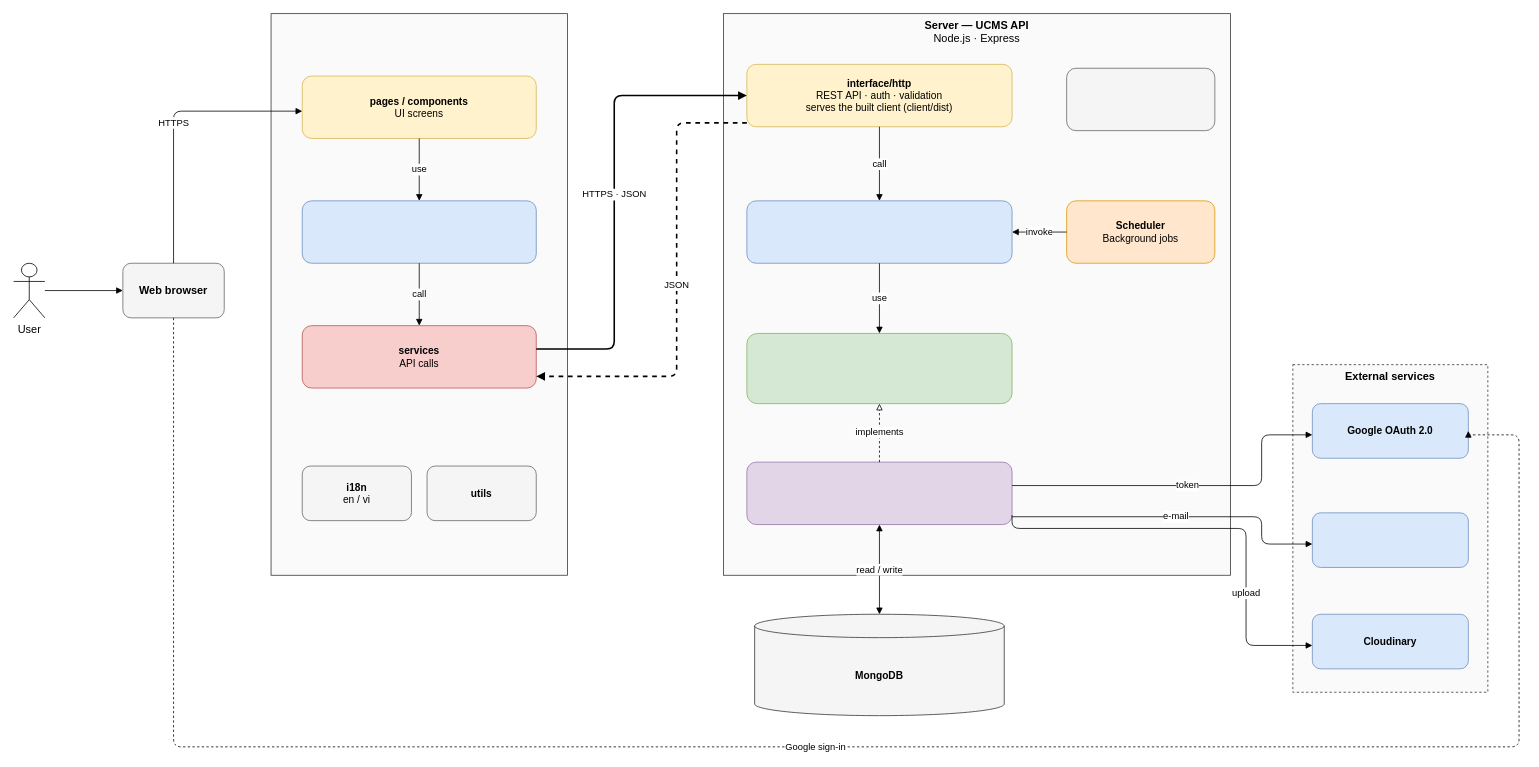
Image size: 1539x767. Some labels were removed from this diagram. The shapes that lost their labels are listed below. From the top down, each one's box as (x1, y1, x2, y2) in pixels, then its label:
(1066, 67, 1215, 131): main.ts Composition root
(301, 200, 536, 263): hooks TanStack Query
(746, 200, 1012, 263): usecase Business rules
(270, 13, 567, 575): Client — UCMS SPA React · Vite
(746, 333, 1012, 404): domain Entities · ports
(746, 461, 1012, 525): infra Repositories · external clients
(1312, 512, 1468, 567): Google SMTP
